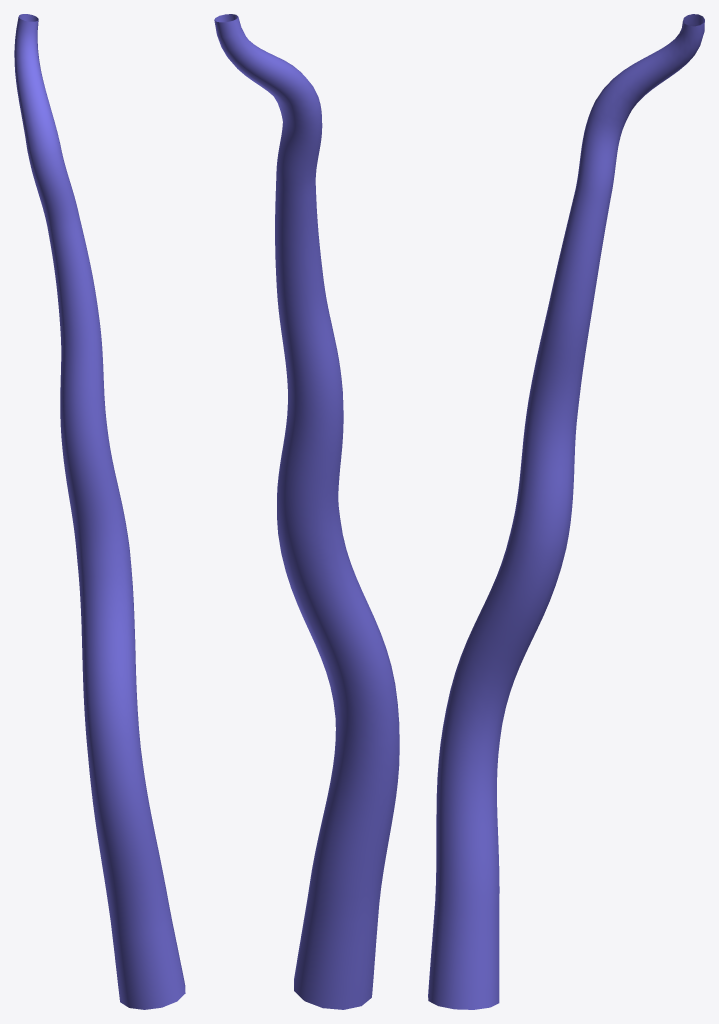
The model's file is Right_internal_jugular_vein.glb.
3 renders of one model, left to right at view 1: azimuth 30°, elevation 25°; view 2: azimuth 150°, elevation 25°; view 3: azimuth 270°, elevation 25°, orthographic. The views are drawn at different scales.
Parts seen in each view (by area): view 1: Right_internal_jugular_vein_BezierCurve.288; view 2: Right_internal_jugular_vein_BezierCurve.288; view 3: Right_internal_jugular_vein_BezierCurve.288.
Boxes of the visible parts, x1=… form: Right_internal_jugular_vein_BezierCurve.288: x1=14, y1=14, x2=185, y2=1009; Right_internal_jugular_vein_BezierCurve.288: x1=214, y1=14, x2=399, y2=1009; Right_internal_jugular_vein_BezierCurve.288: x1=428, y1=14, x2=704, y2=1009.
Size of the model in its own units: 0.0143 by 0.1464 by 0.0376.
